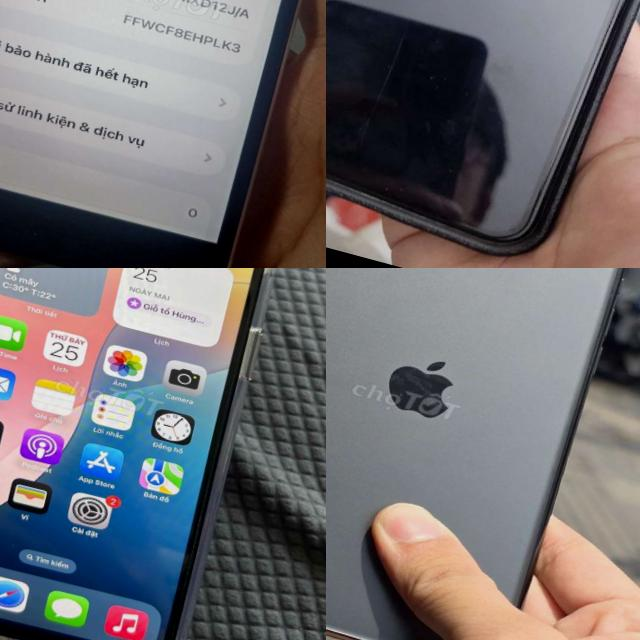gen_11: (326, 268, 640, 640)
gen_7_8: (0, 0, 326, 268)
gen_x_xs: (0, 268, 273, 640), (326, 0, 640, 254)
